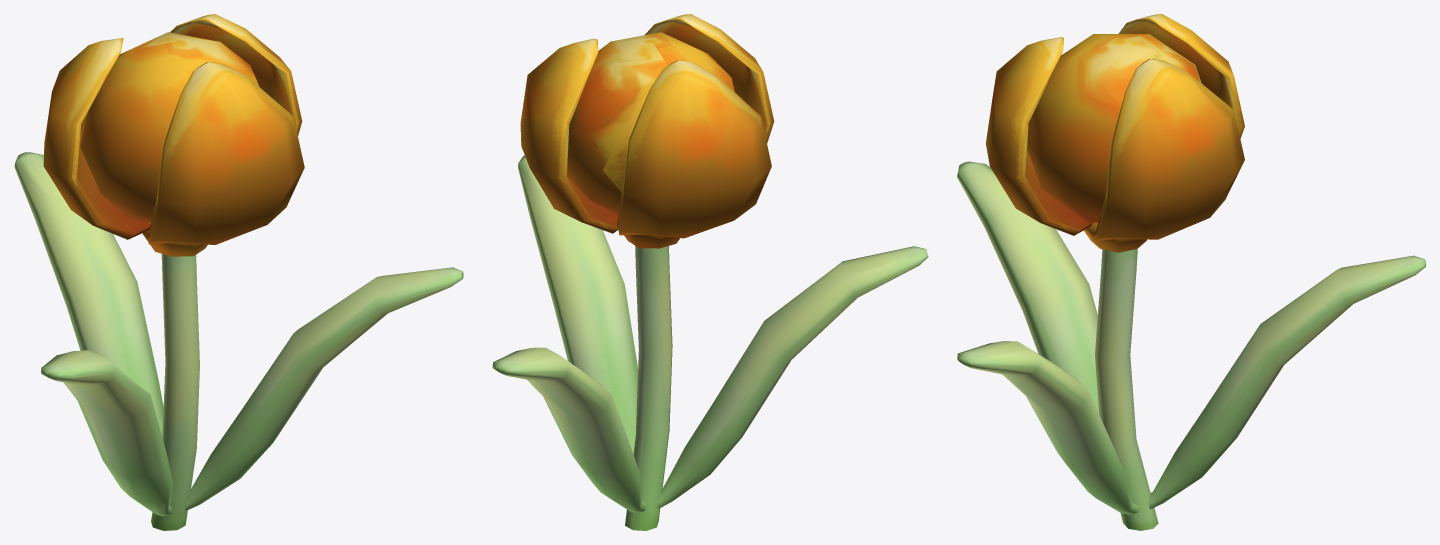
The model's file is Flower_Yellow.fbx.
3 views of the same model, side by side, from view 1: azimuth 30°, elevation 25°; view 2: azimuth 150°, elevation 25°; view 3: azimuth 270°, elevation 25° (orthographic). The views are drawn at different scales.
Parts seen in each view (by area): view 1: Flower_Leaf.002, Flower_Petal1.002, Flower_Pistil.002, Flower_Petal2.002, Flower_Stem.002, Flower_Receptacles.002; view 2: Flower_Leaf.002, Flower_Petal2.002, Flower_Pistil.002, Flower_Stem.002, Flower_Petal1.002, Flower_Receptacles.002; view 3: Flower_Leaf.002, Flower_Petal2.002, Flower_Pistil.002, Flower_Stem.002, Flower_Petal1.002, Flower_Receptacles.002.
Part boxes in pixels (x1,y1,x2,y2): Flower_Leaf.002: (14, 152, 463, 516); Flower_Petal1.002: (147, 62, 304, 244); Flower_Pistil.002: (80, 32, 259, 222); Flower_Petal2.002: (43, 14, 302, 239); Flower_Stem.002: (151, 254, 199, 530); Flower_Receptacles.002: (142, 222, 207, 256); Flower_Leaf.002: (492, 155, 928, 512); Flower_Petal2.002: (520, 38, 771, 238); Flower_Pistil.002: (567, 32, 734, 214); Flower_Stem.002: (625, 245, 672, 530); Flower_Petal1.002: (645, 14, 774, 143); Flower_Receptacles.002: (624, 234, 679, 248); Flower_Leaf.002: (957, 161, 1425, 514); Flower_Petal2.002: (1091, 14, 1244, 241); Flower_Pistil.002: (1027, 34, 1201, 222); Flower_Stem.002: (1095, 248, 1158, 530); Flower_Petal1.002: (986, 37, 1092, 235); Flower_Receptacles.002: (1084, 222, 1147, 252).
Size of the model in its own units: 48.22 by 54.22 by 47.51.
Materials: 6 (6 with a texture image).
